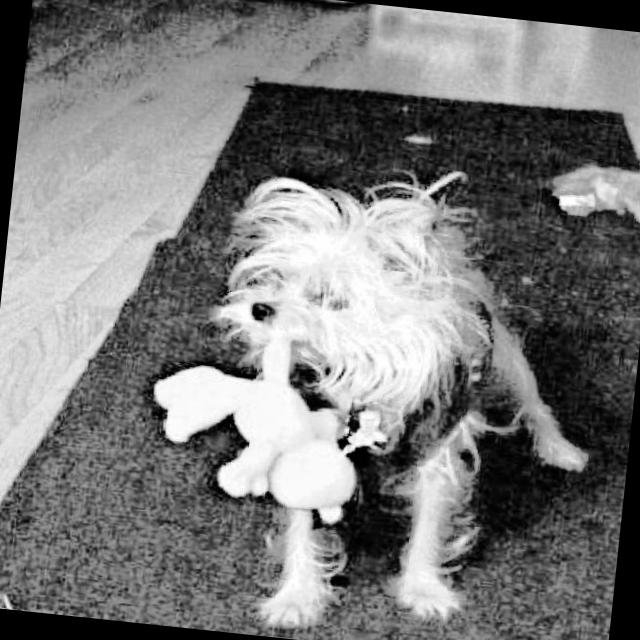Dog: (130, 130, 631, 640)
